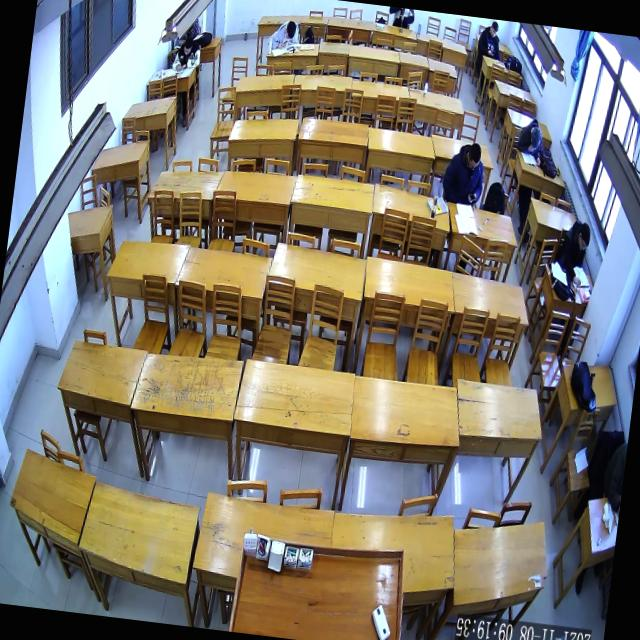bow: (514, 114, 546, 166), (266, 15, 302, 53)
down: (463, 141, 483, 173), (575, 221, 592, 253), (528, 125, 543, 151), (282, 18, 297, 42), (182, 36, 193, 56), (488, 20, 499, 39)
sit: (438, 138, 488, 210), (553, 216, 593, 290), (170, 34, 203, 74), (475, 18, 504, 60)
